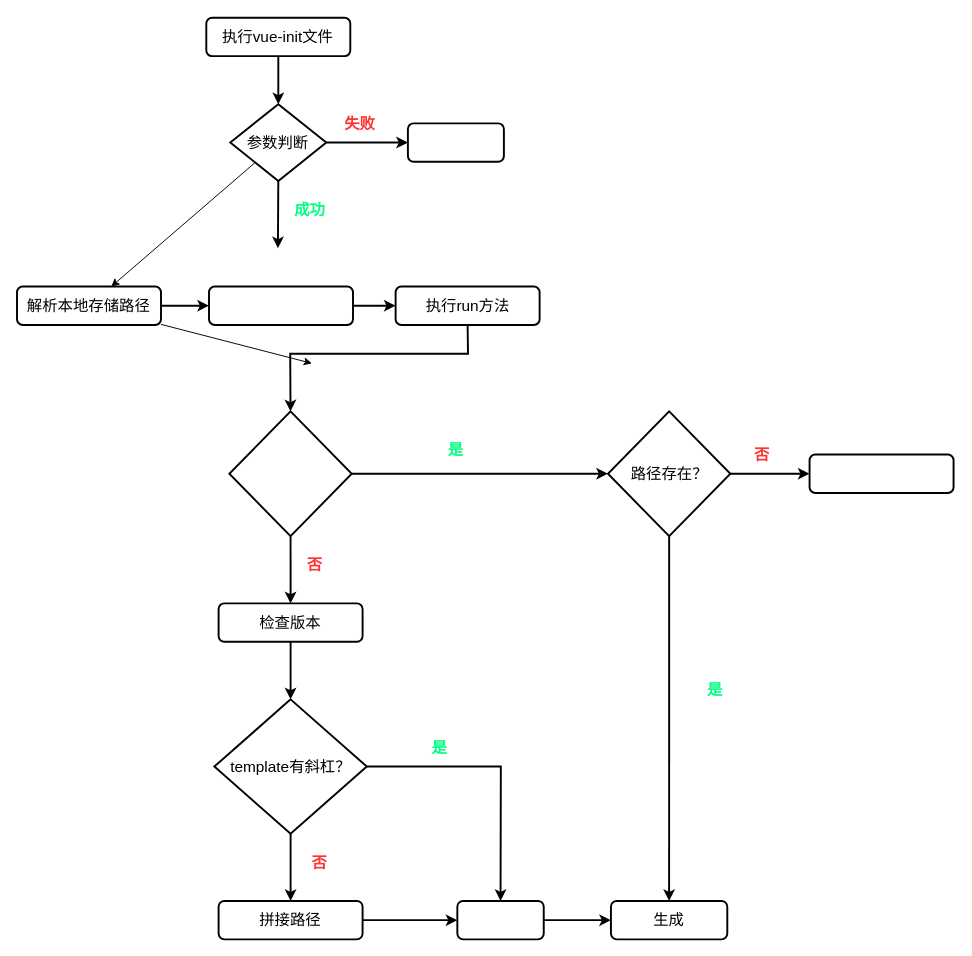
Image size: 972x956. Some labels were removed from this diagram. The centre of each missing label's shape, as x and y in pixels:
下载: (x=500, y=920)
打印help: (x=455, y=142)
报错: (x=881, y=473)
本地模板？: (x=290, y=473)
解析模板下载地址: (x=280, y=305)
